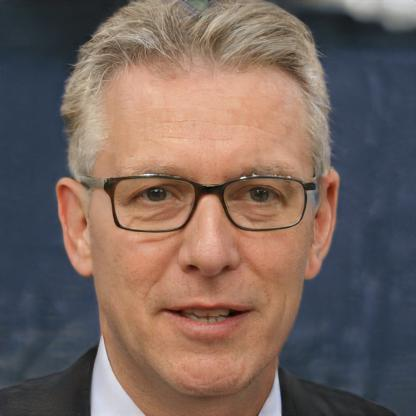glasses: (87, 166, 316, 236)
